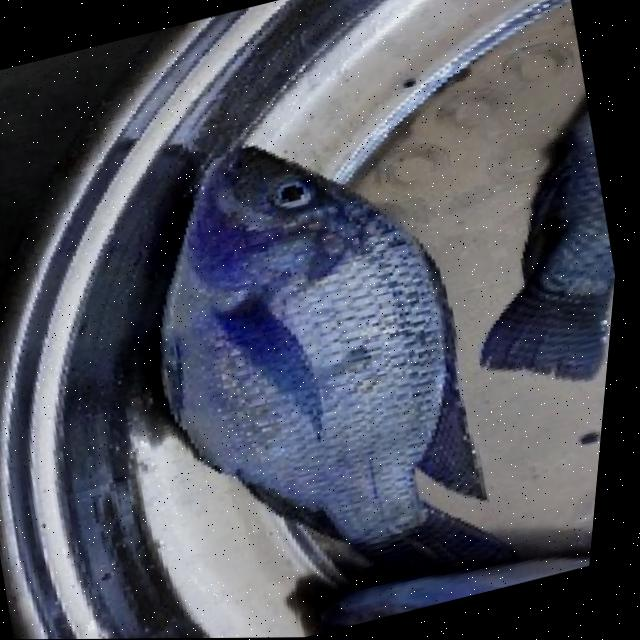Fresh: (69, 79, 534, 626)
